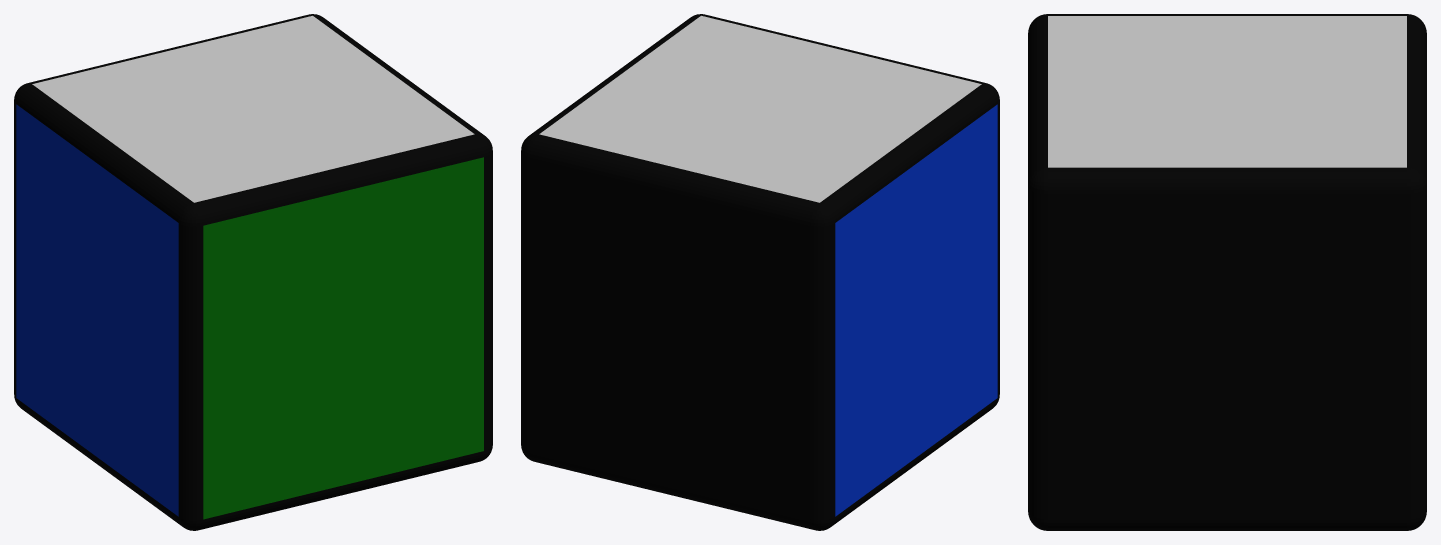
File: alpha2.obj
The picture shows the model from 3 angles, left to right: view 1: azimuth 30°, elevation 25°; view 2: azimuth 150°, elevation 25°; view 3: azimuth 270°, elevation 25°; orthographic projection. The views are drawn at different scales.
Visible parts, largest first — view 1: Cube.001; view 2: Cube.001; view 3: Cube.001.
Boxes of the visible parts, x1=… form: Cube.001: x1=14, y1=14, x2=492, y2=530; Cube.001: x1=521, y1=14, x2=999, y2=530; Cube.001: x1=1028, y1=14, x2=1426, y2=530.
Bounding box in the file's own units: 4.28 × 4.28 × 4.28.
